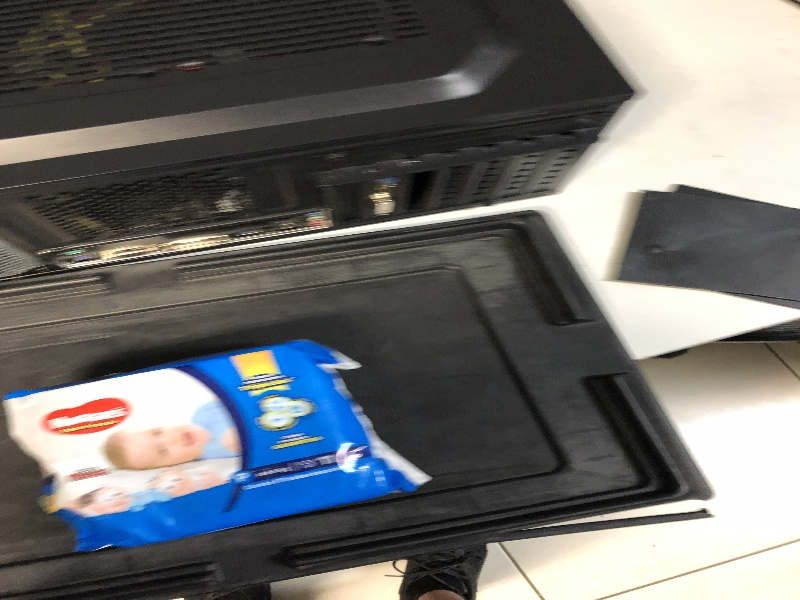fralda: (12, 363, 381, 528)
